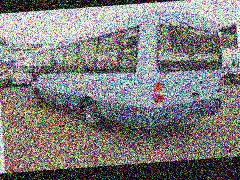bus: (26, 4, 230, 138)
